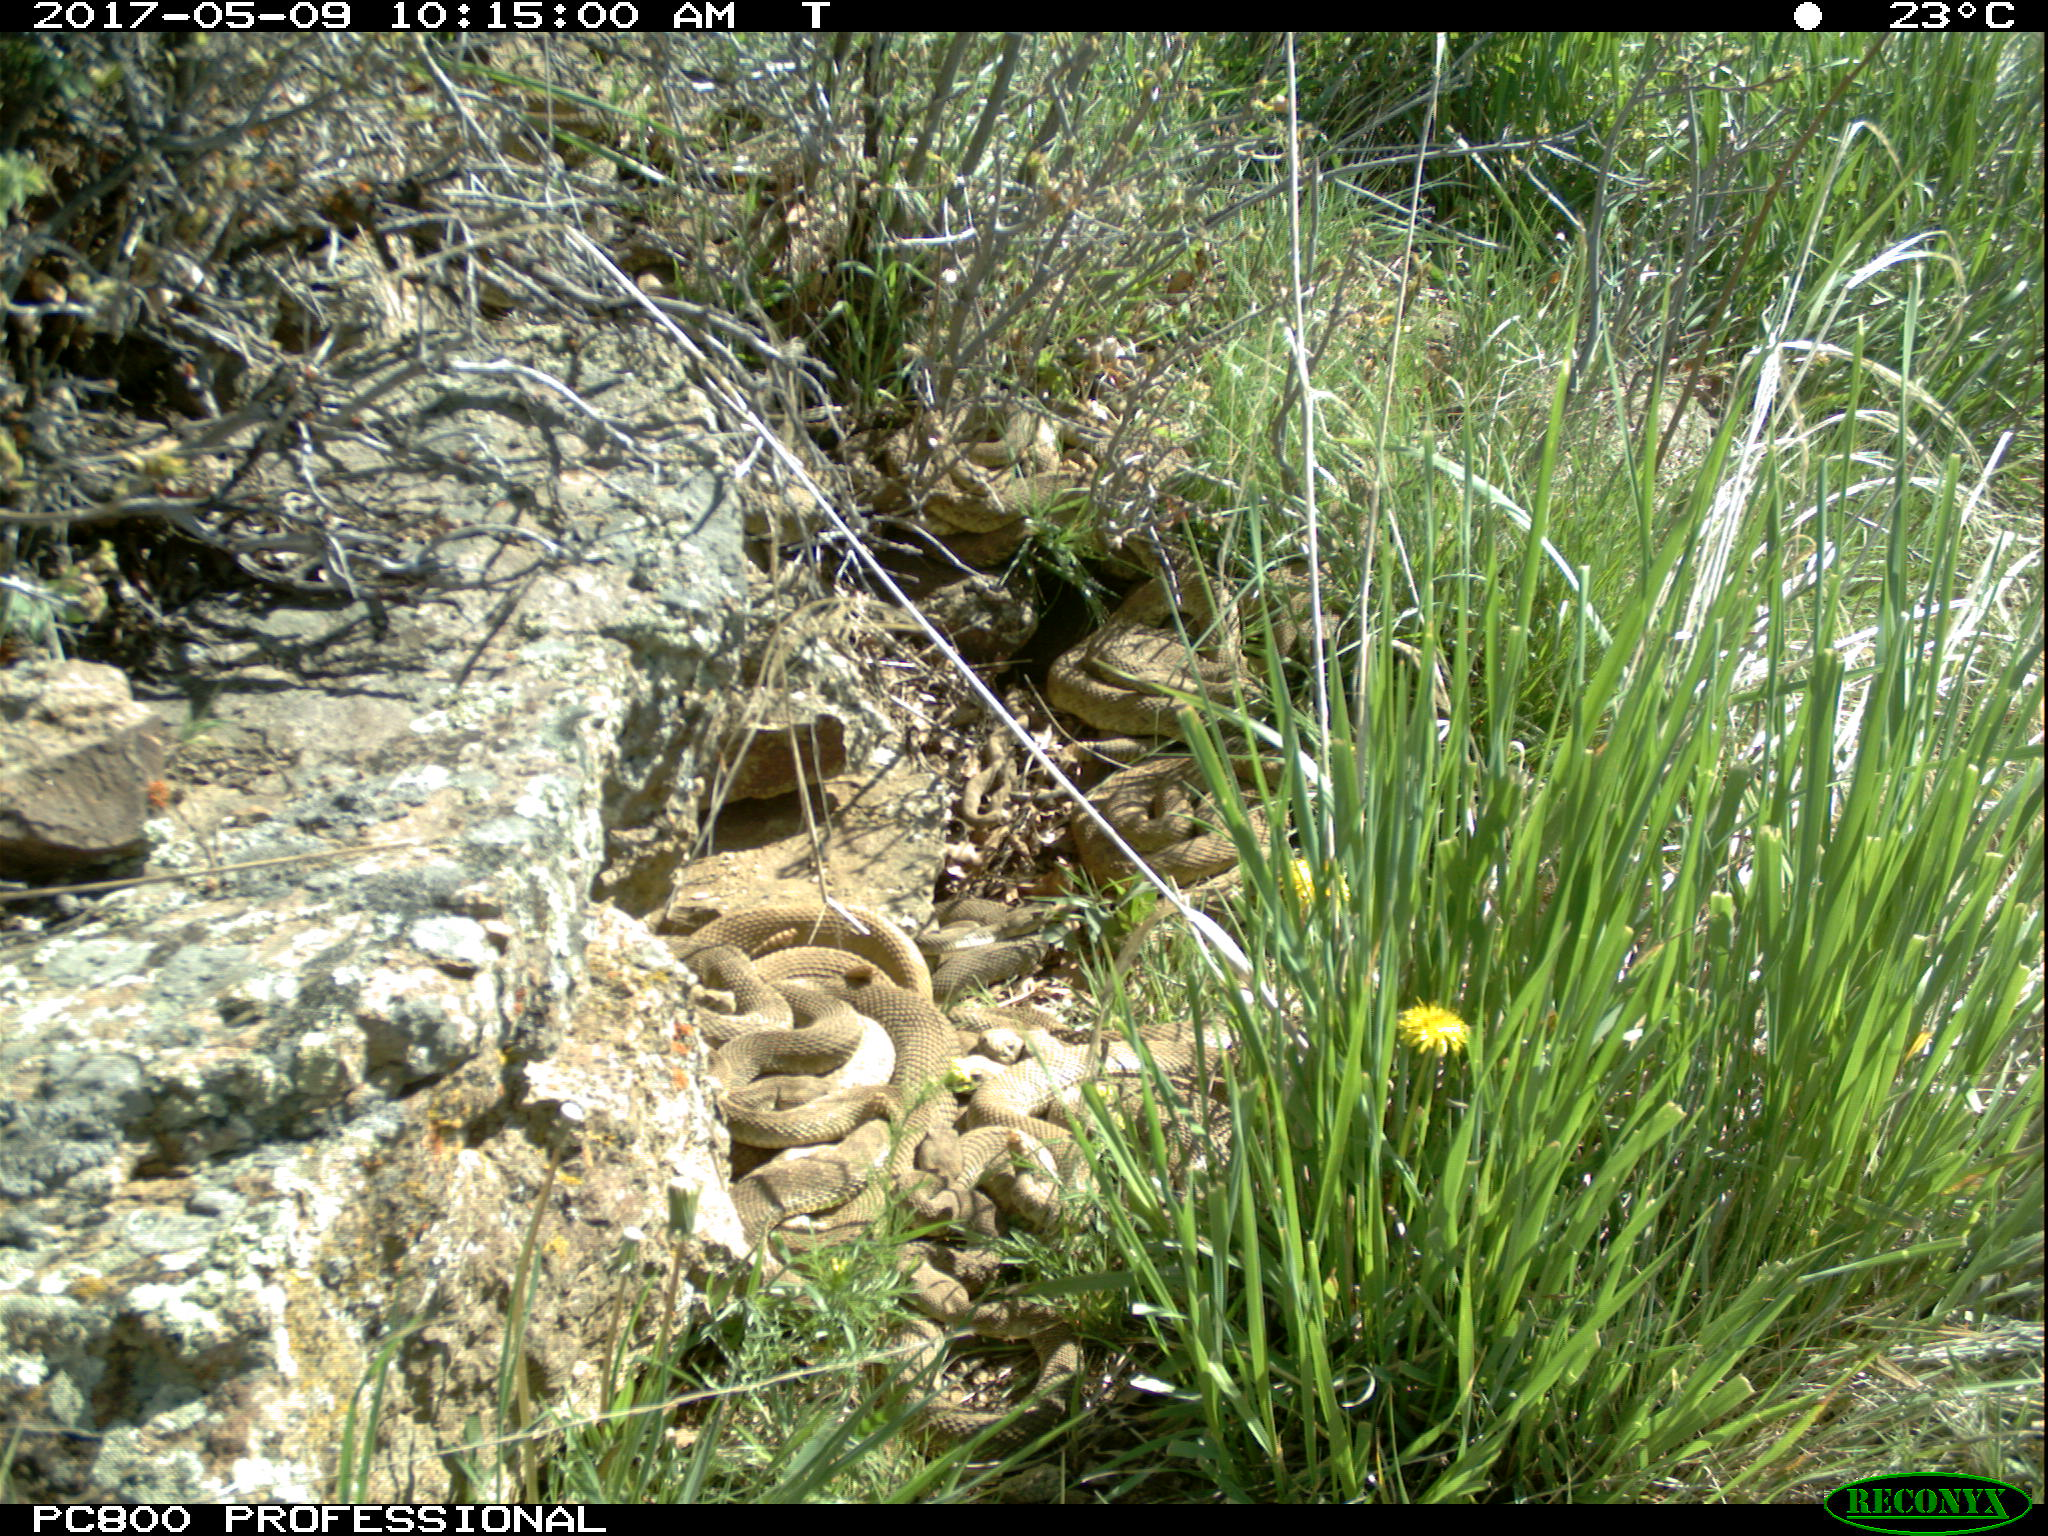snake: (961, 923, 1251, 1142), (693, 899, 945, 1136), (1042, 553, 1272, 745), (885, 1255, 1090, 1449), (1074, 753, 1322, 905), (708, 1136, 916, 1292), (908, 1094, 1114, 1249), (926, 408, 1108, 532)
